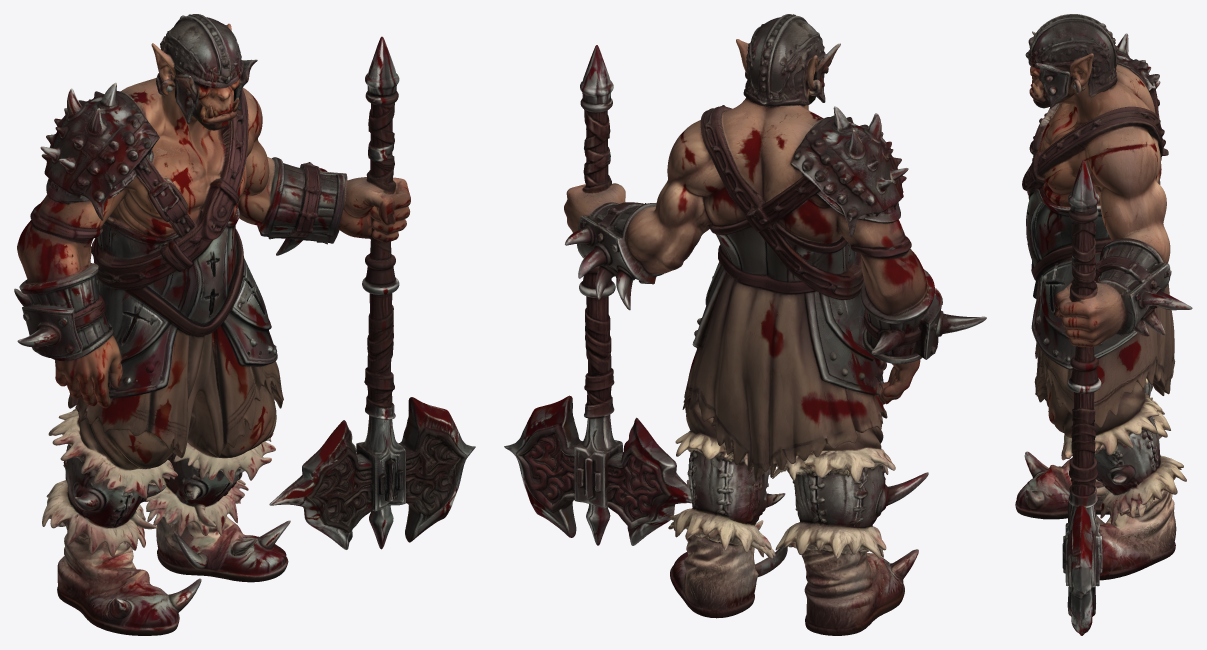
Rendered from executioner.glb.
3 renders of one model, left to right at view 1: azimuth 30°, elevation 25°; view 2: azimuth 150°, elevation 25°; view 3: azimuth 270°, elevation 25°, orthographic. The views are drawn at different scales.
Size of the model in its own units: 0.1285 by 0.15 by 0.0458.
1 material, 1 textured.
